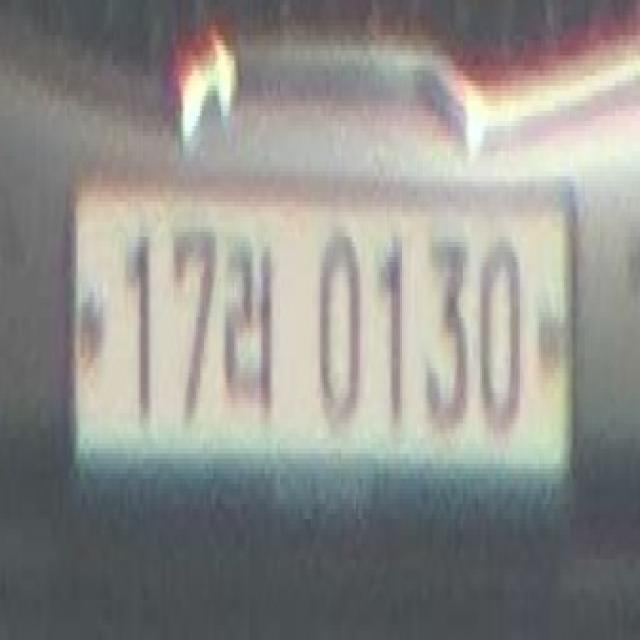0: (474, 222, 528, 443), (314, 217, 366, 438)
1: (120, 217, 160, 433), (372, 227, 412, 438)
3: (418, 216, 472, 444)
7: (170, 222, 219, 433)
leo: (221, 227, 278, 428)
license_plate: (63, 161, 579, 504)
